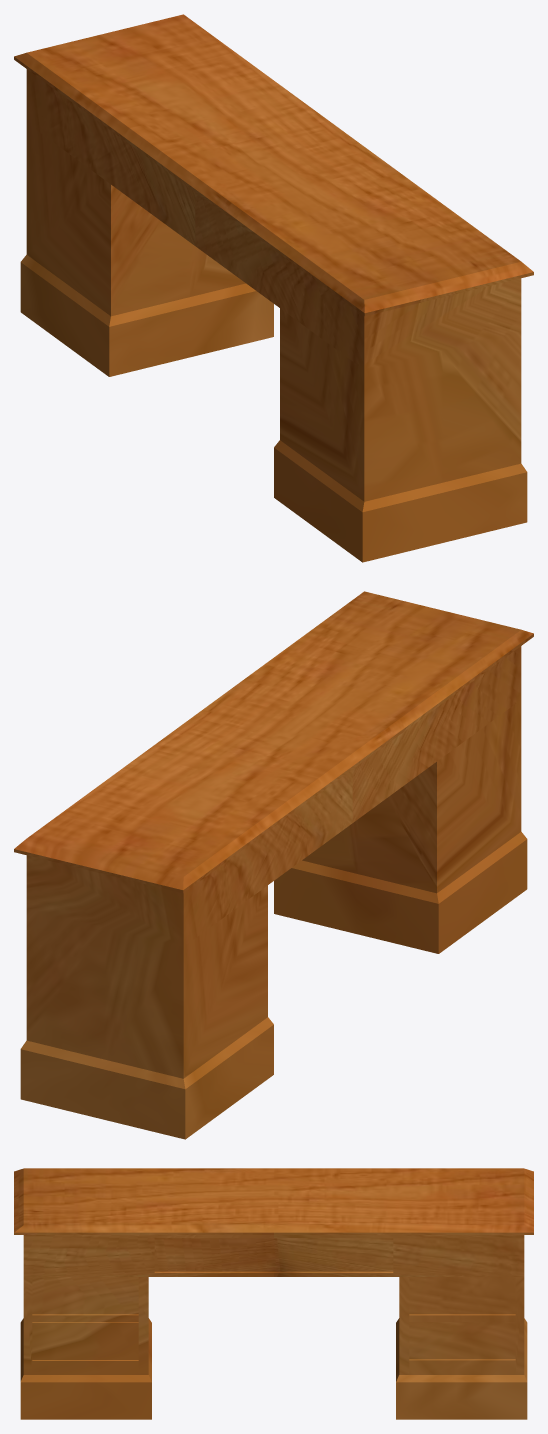
File: desk.fbx
The picture shows the model from 3 angles, top to bottom: view 1: azimuth 30°, elevation 25°; view 2: azimuth 150°, elevation 25°; view 3: azimuth 270°, elevation 25°; orthographic projection. The views are drawn at different scales.
Visible parts, largest first — view 1: Cube; view 2: Cube; view 3: Cube.
Part boxes in pixels (x1,y1,x2,y2): Cube: [14, 14, 533, 562]; Cube: [14, 591, 533, 1139]; Cube: [14, 1168, 533, 1419].
Bounding box in the file's own units: 170 × 250 × 612.
Materials: 1 (1 with a texture image).
